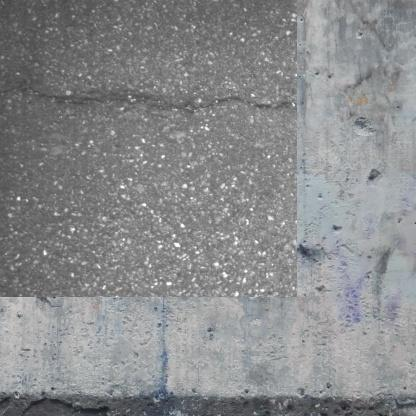Cracks: (0, 76, 274, 106)
